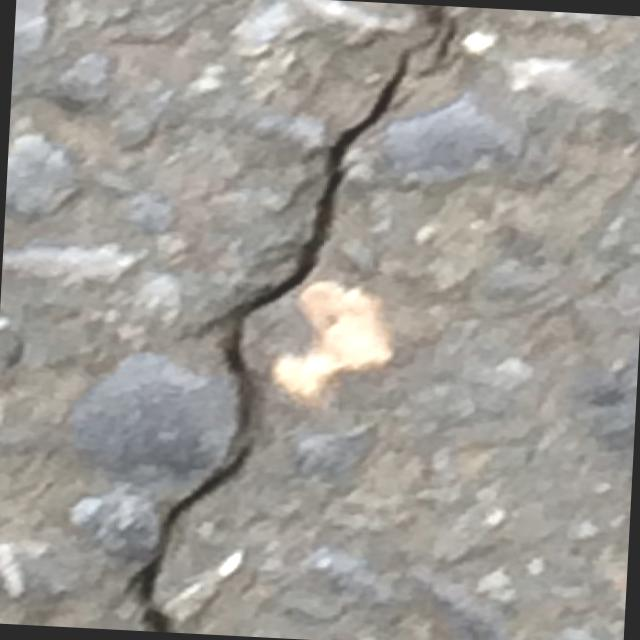crack: (114, 0, 474, 640)
